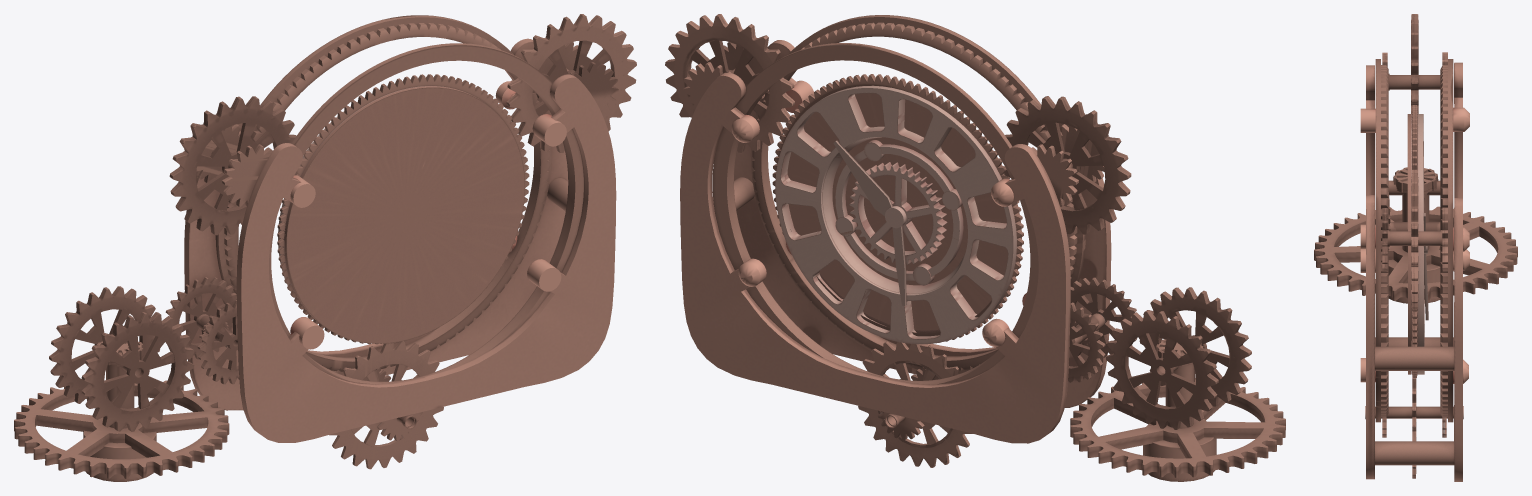
The model's file is relojgalrede.obj.
3 views of the same model, side by side, from view 1: azimuth 30°, elevation 25°; view 2: azimuth 150°, elevation 25°; view 3: azimuth 270°, elevation 25° (orthographic). The views are drawn at different scales.
Parts seen in each view (by area): view 1: Part_001_Part_01_0.001; view 2: Part_001_Part_01_0.001; view 3: Part_001_Part_01_0.001.
Part boxes in pixels (bbox=[...]): Part_001_Part_01_0.001: bbox=[14, 14, 636, 481]; Part_001_Part_01_0.001: bbox=[665, 14, 1285, 481]; Part_001_Part_01_0.001: bbox=[1314, 14, 1517, 481].
Size of the model in its own units: 3.9 by 2.63 by 1.2.
